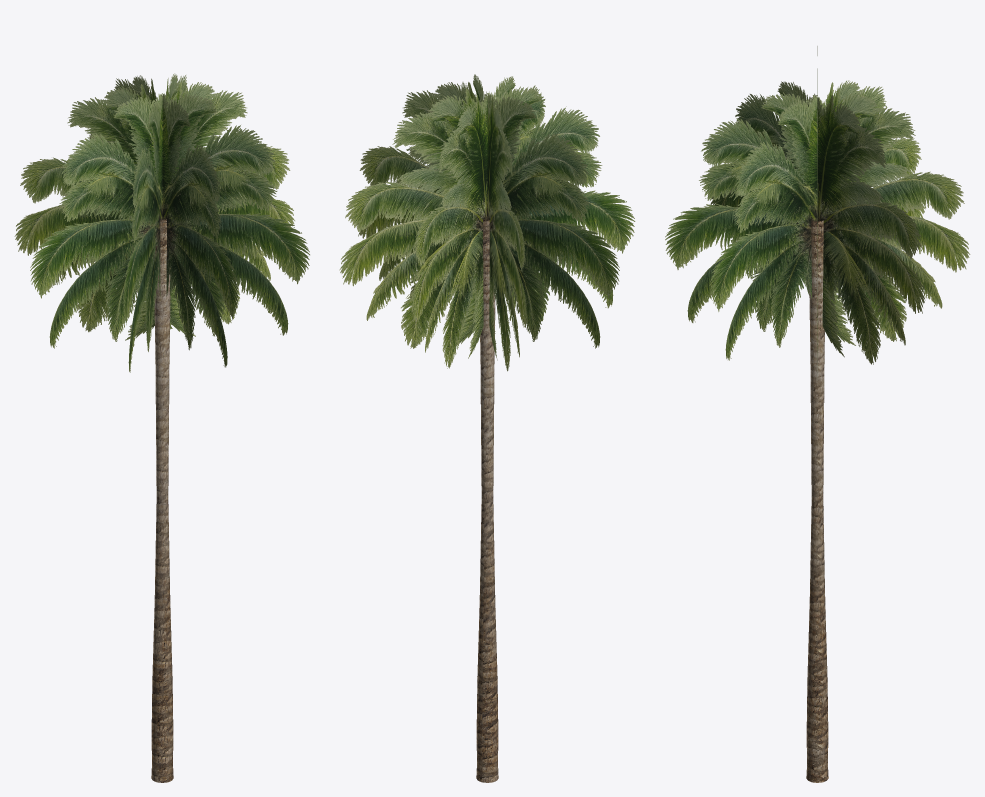
Rendered from palm_tall.glb.
3 views of the same model, side by side, from view 1: azimuth 30°, elevation 25°; view 2: azimuth 150°, elevation 25°; view 3: azimuth 270°, elevation 25° (orthographic).
Parts seen in each view (by area): view 1: Palm Leaves, Palm Stem; view 2: Palm Leaves, Palm Stem; view 3: Palm Leaves, Palm Stem.
Boxes of the visible parts, x1,y1,x2,y2 form: Palm Leaves: [14, 73, 309, 372]; Palm Stem: [151, 219, 173, 782]; Palm Leaves: [339, 74, 635, 371]; Palm Stem: [476, 219, 498, 782]; Palm Leaves: [665, 46, 970, 380]; Palm Stem: [806, 220, 828, 782].
Size of the model in its own units: 3.57 by 9 by 3.57.
1 material, 1 textured.
